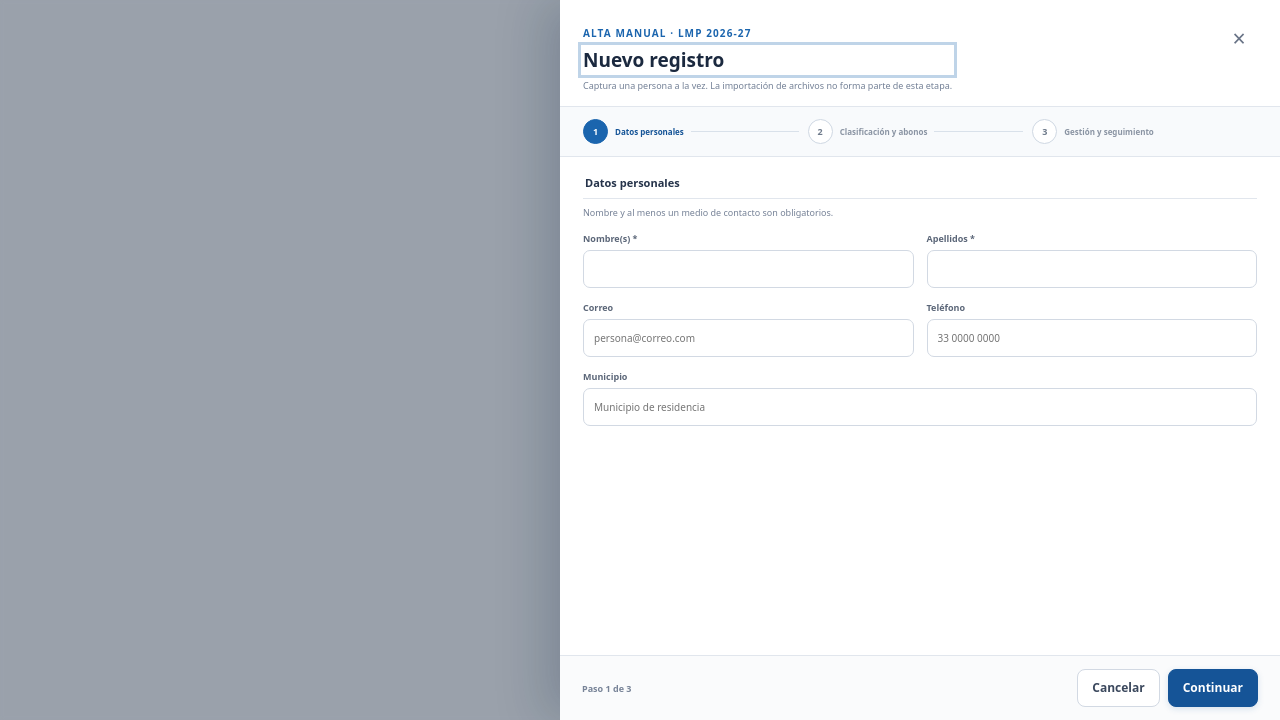
Test case: alta manual › valida el teléfono con la misma regla mexicana del importador
The width and height of the screenshot is (1280, 720).
In the field labelled "Nombre(s) *": (748, 269) [583,250,914,288], type "Persona"
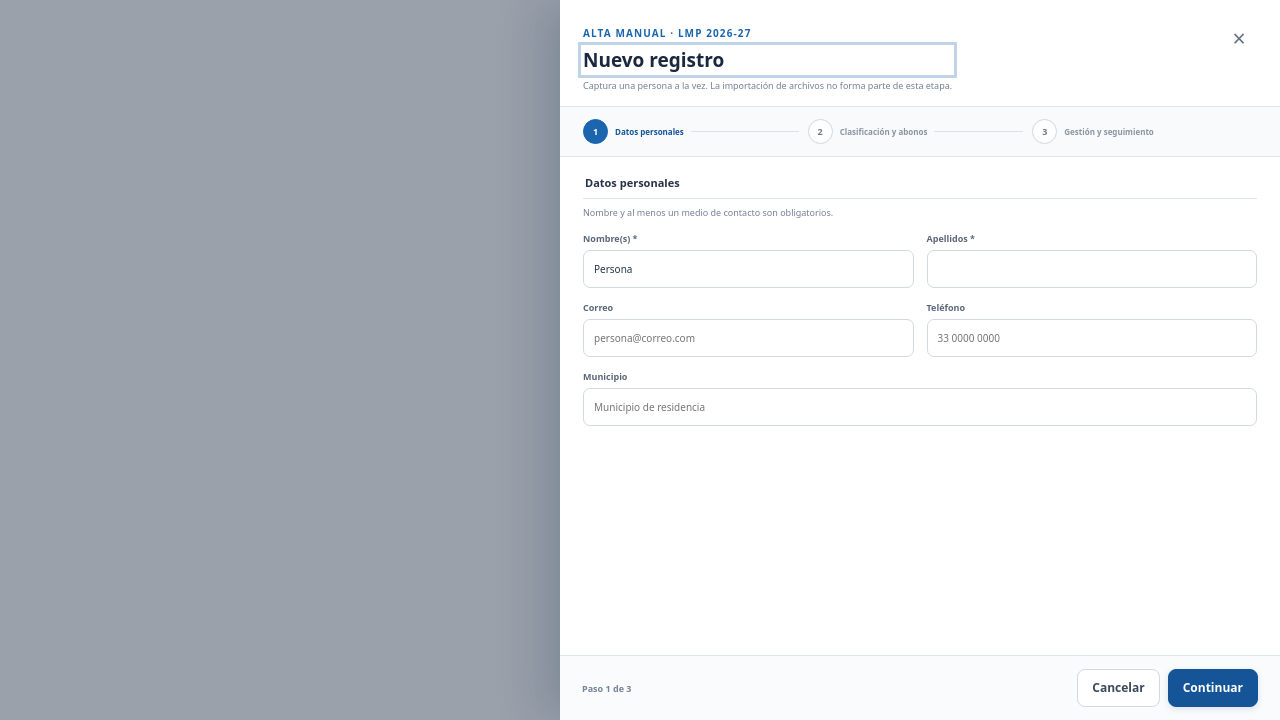
In the field labelled "Apellidos *": (1092, 269) [926,250,1257,288], type "Sintética"
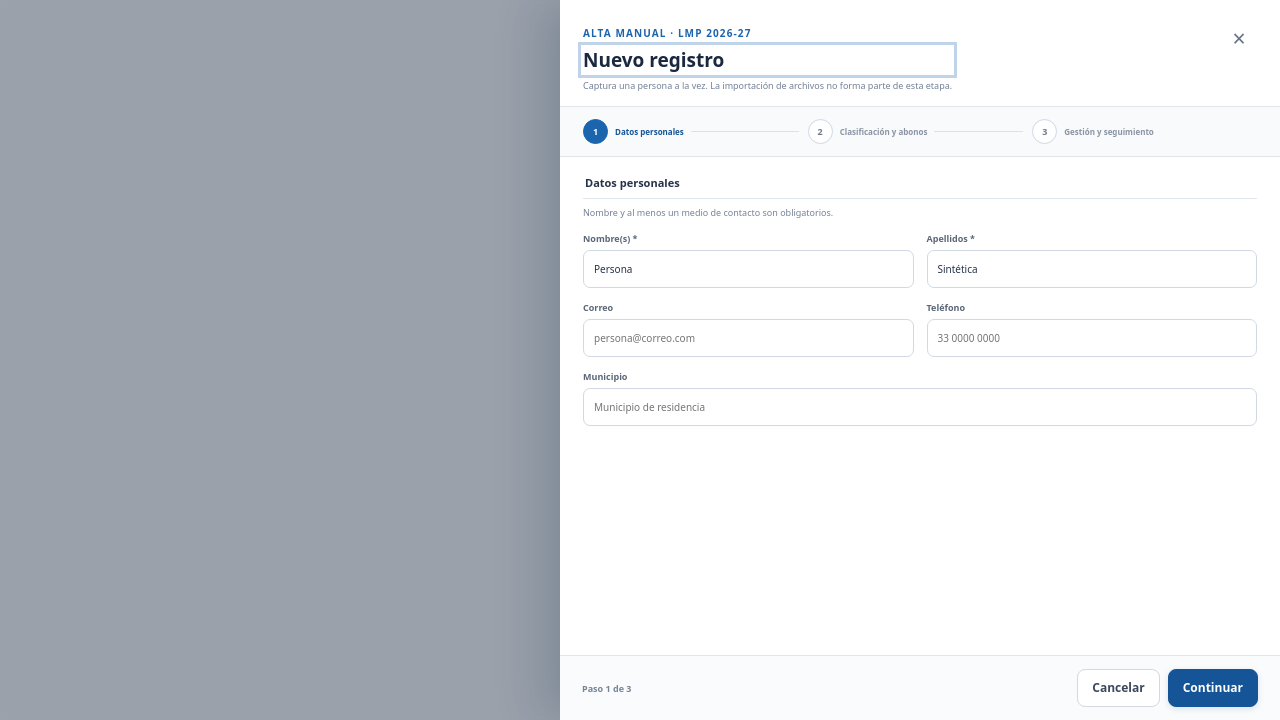
In the field labelled "Teléfono": (1092, 338) [926,319,1257,357], type "+52 123"
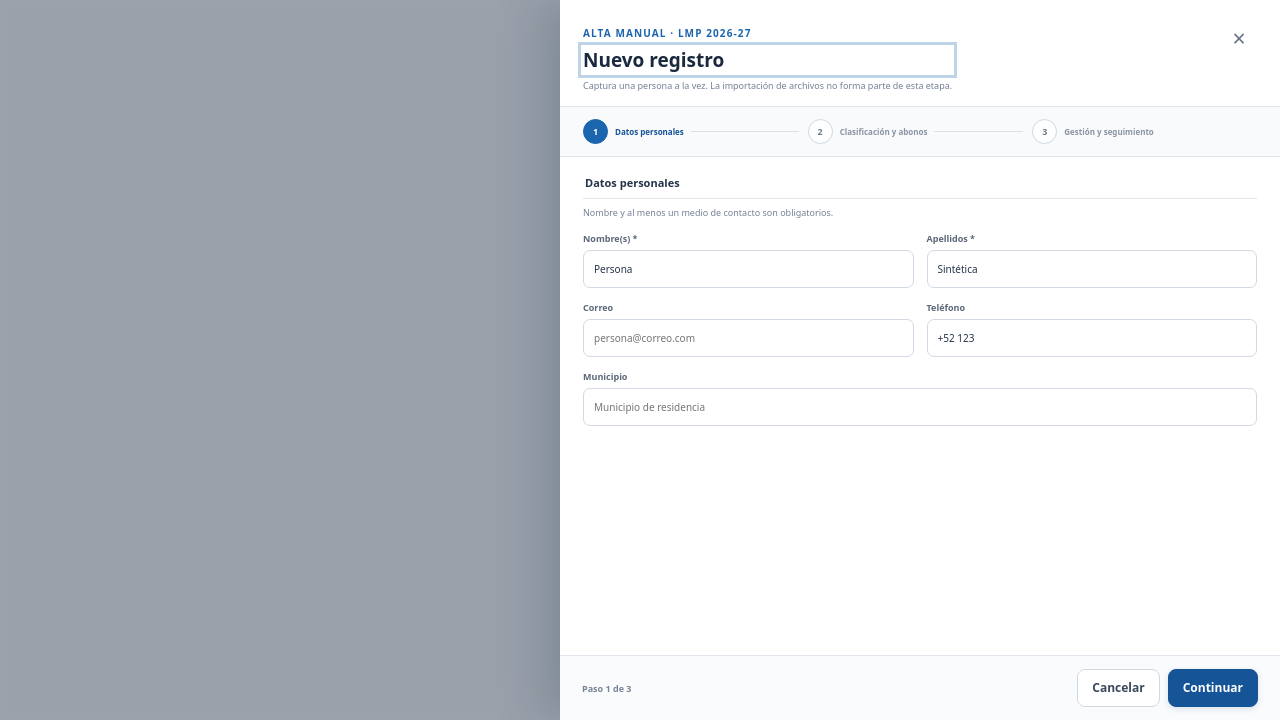
Click the button "Continuar": (1213, 688) [1168,669,1258,707]
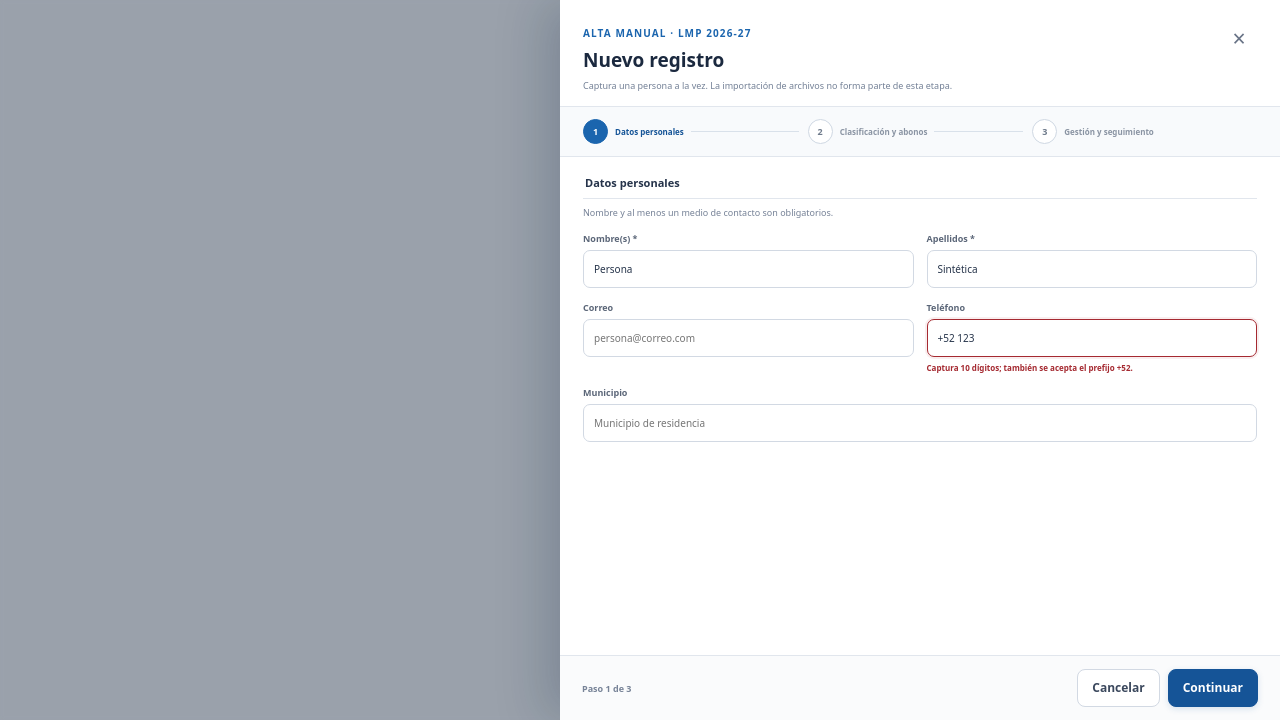
Now the text "Captura 10 dígitos; también se acepta el prefijo +52." is shown, box [926,362,1133,373]
